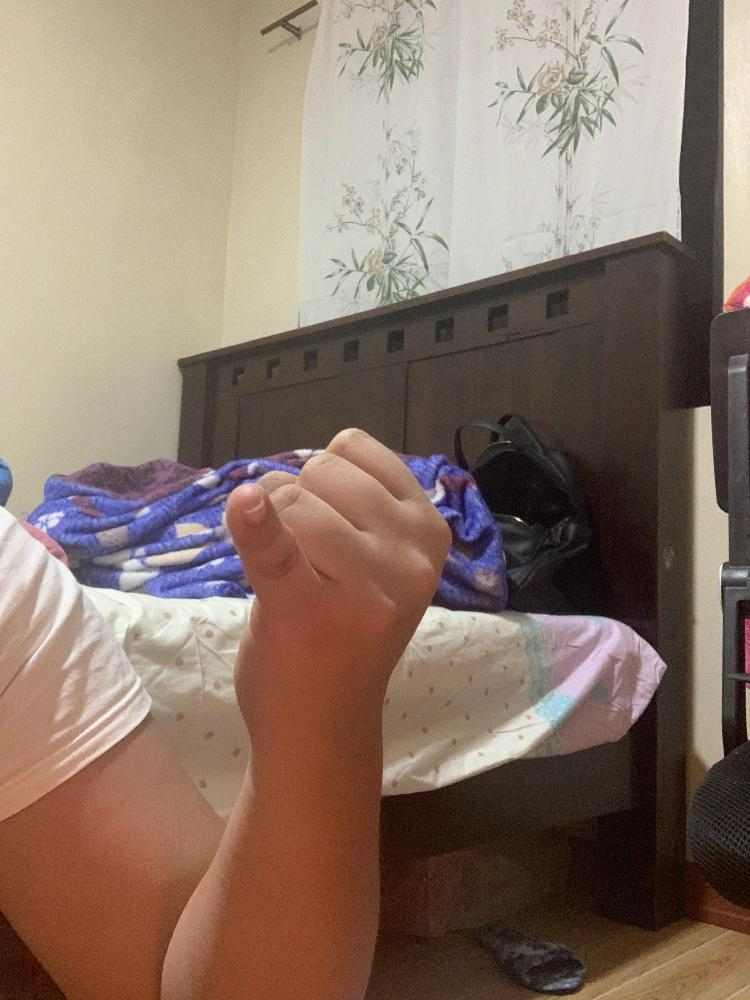j: (224, 421, 454, 753)
